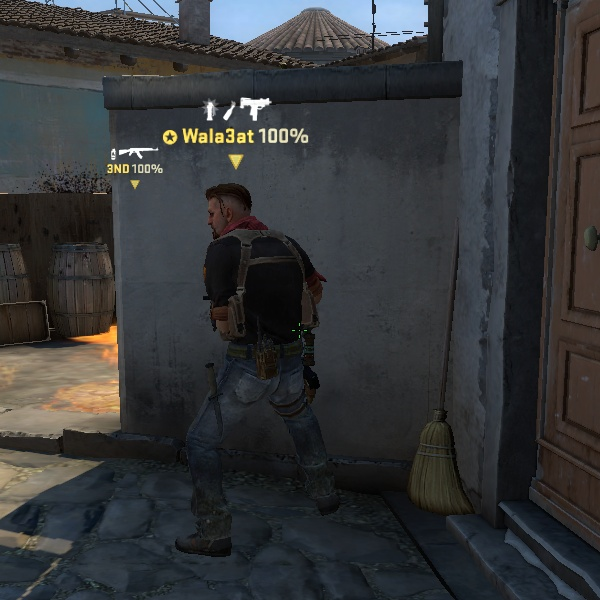t_body: (123, 191, 351, 557)
t_head: (190, 172, 269, 244)
